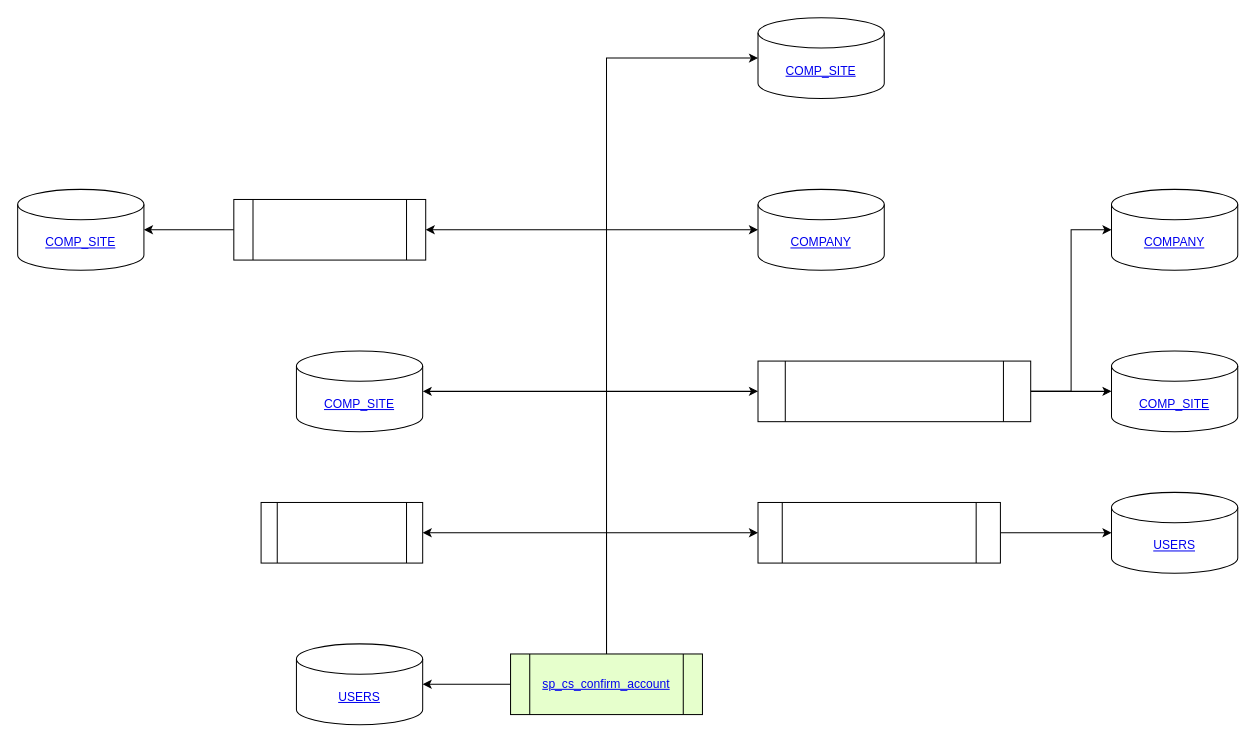
The diagram is 1255 pixels wide and 742 high, and some of its shapes have lost their labels. Here are the shapes that lost their labels. From the top down, the box of each, then its label:
(233, 198, 426, 260): sp_req_comp_id_of_site
(757, 360, 1031, 422): sp_req_cs_manager_id_of_company
(260, 501, 423, 563): sp_req_current_time
(757, 501, 1000, 563): sp_req_cs_manager_in_charge
